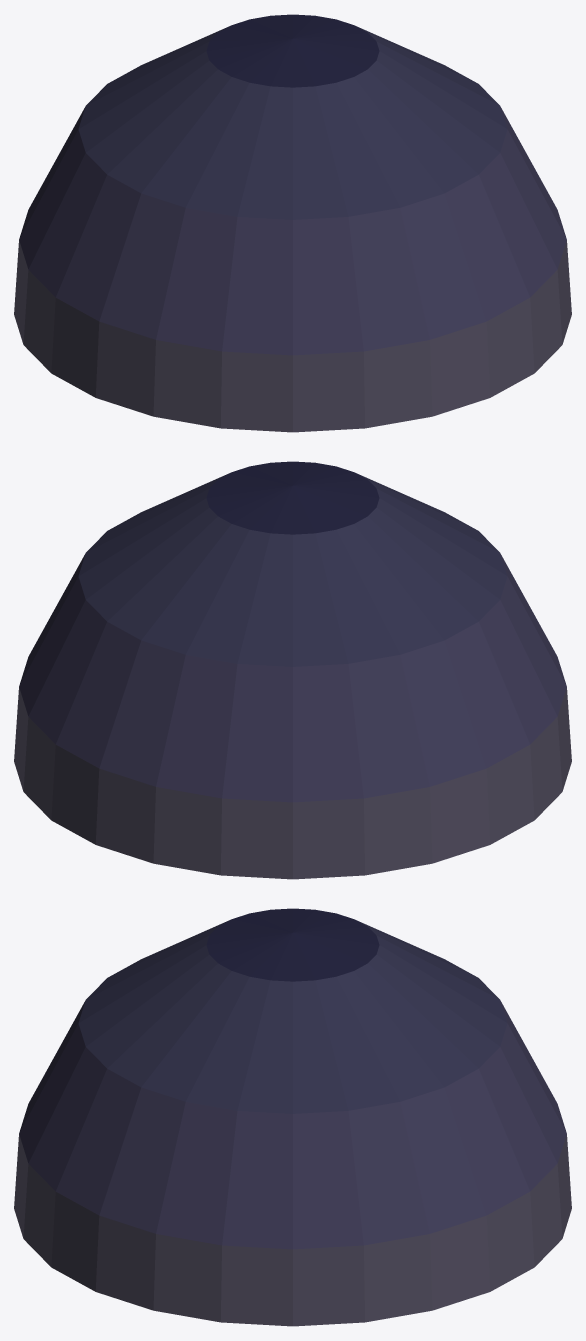
The model's file is sky_city_night.glb.
3 views of the same model, one above another, from view 1: azimuth 30°, elevation 25°; view 2: azimuth 150°, elevation 25°; view 3: azimuth 270°, elevation 25° (orthographic).
Parts seen in each view (by area): view 1: skyband1, skyband2, skyband0, skyband3; view 2: skyband1, skyband2, skyband0, skyband3; view 3: skyband1, skyband2, skyband0, skyband3.
Part boxes in pixels (x1,y1,x2,y2): skyband1: (19,107,566,355); skyband2: (78,26,507,219); skyband0: (14,240,571,432); skyband3: (206,14,379,87); skyband1: (19,554,566,802); skyband2: (78,473,507,666); skyband0: (14,687,571,879); skyband3: (206,461,379,534); skyband1: (19,1001,566,1249); skyband2: (78,920,507,1113); skyband0: (14,1134,571,1326); skyband3: (206,908,379,981).
Size of the model in its own units: 179 by 97.84 by 179.
